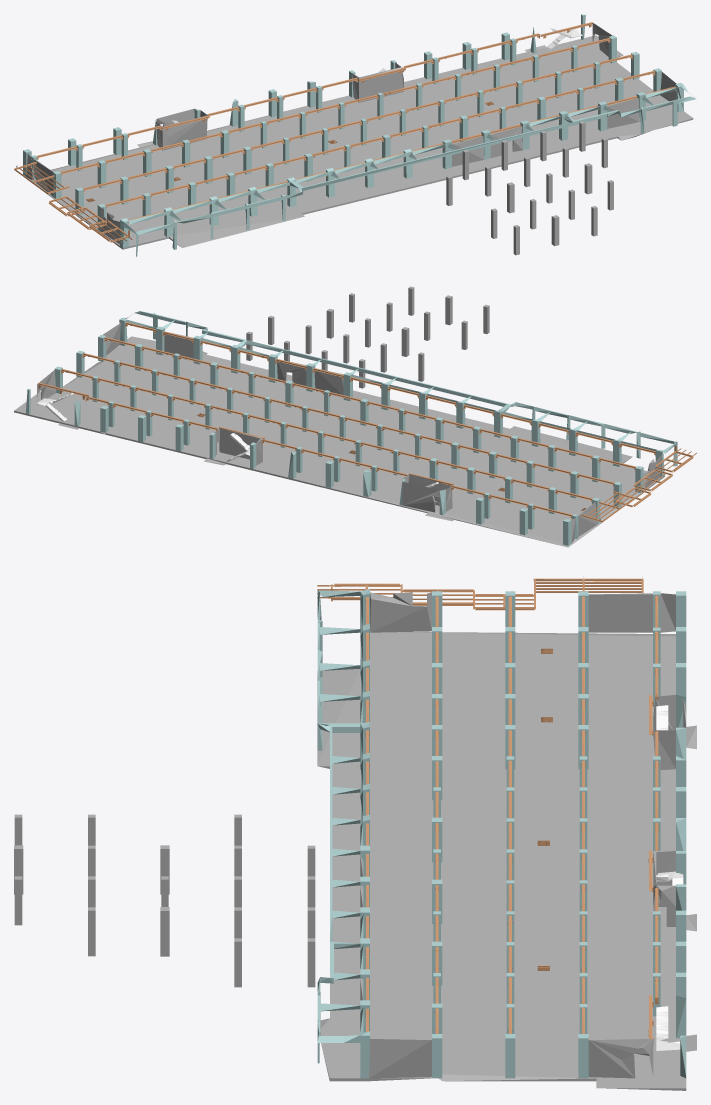
The model's file is structure-1-gf.glb.
The picture shows the model from 3 angles, top to bottom: view 1: azimuth 30°, elevation 25°; view 2: azimuth 150°, elevation 25°; view 3: azimuth 270°, elevation 25°; orthographic projection. The views are drawn at different scales.
Bounding box in the file's own units: 110 × 5.25 × 67.16.
